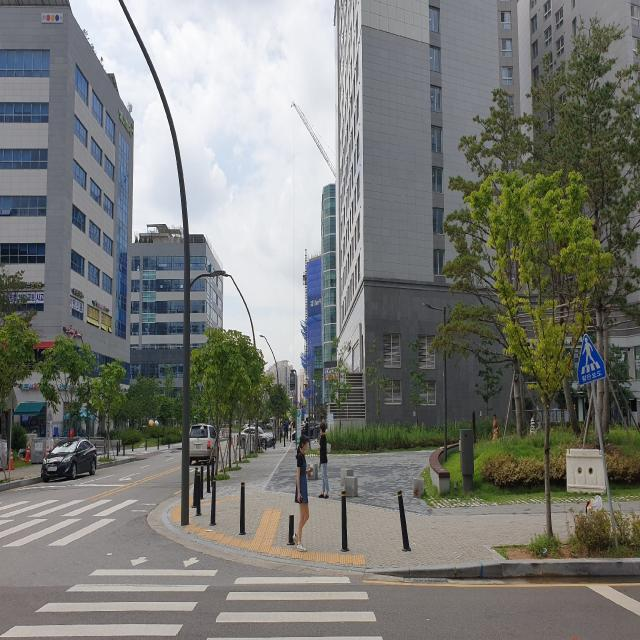횡단보도: (0, 554, 384, 639), (0, 501, 142, 544)
